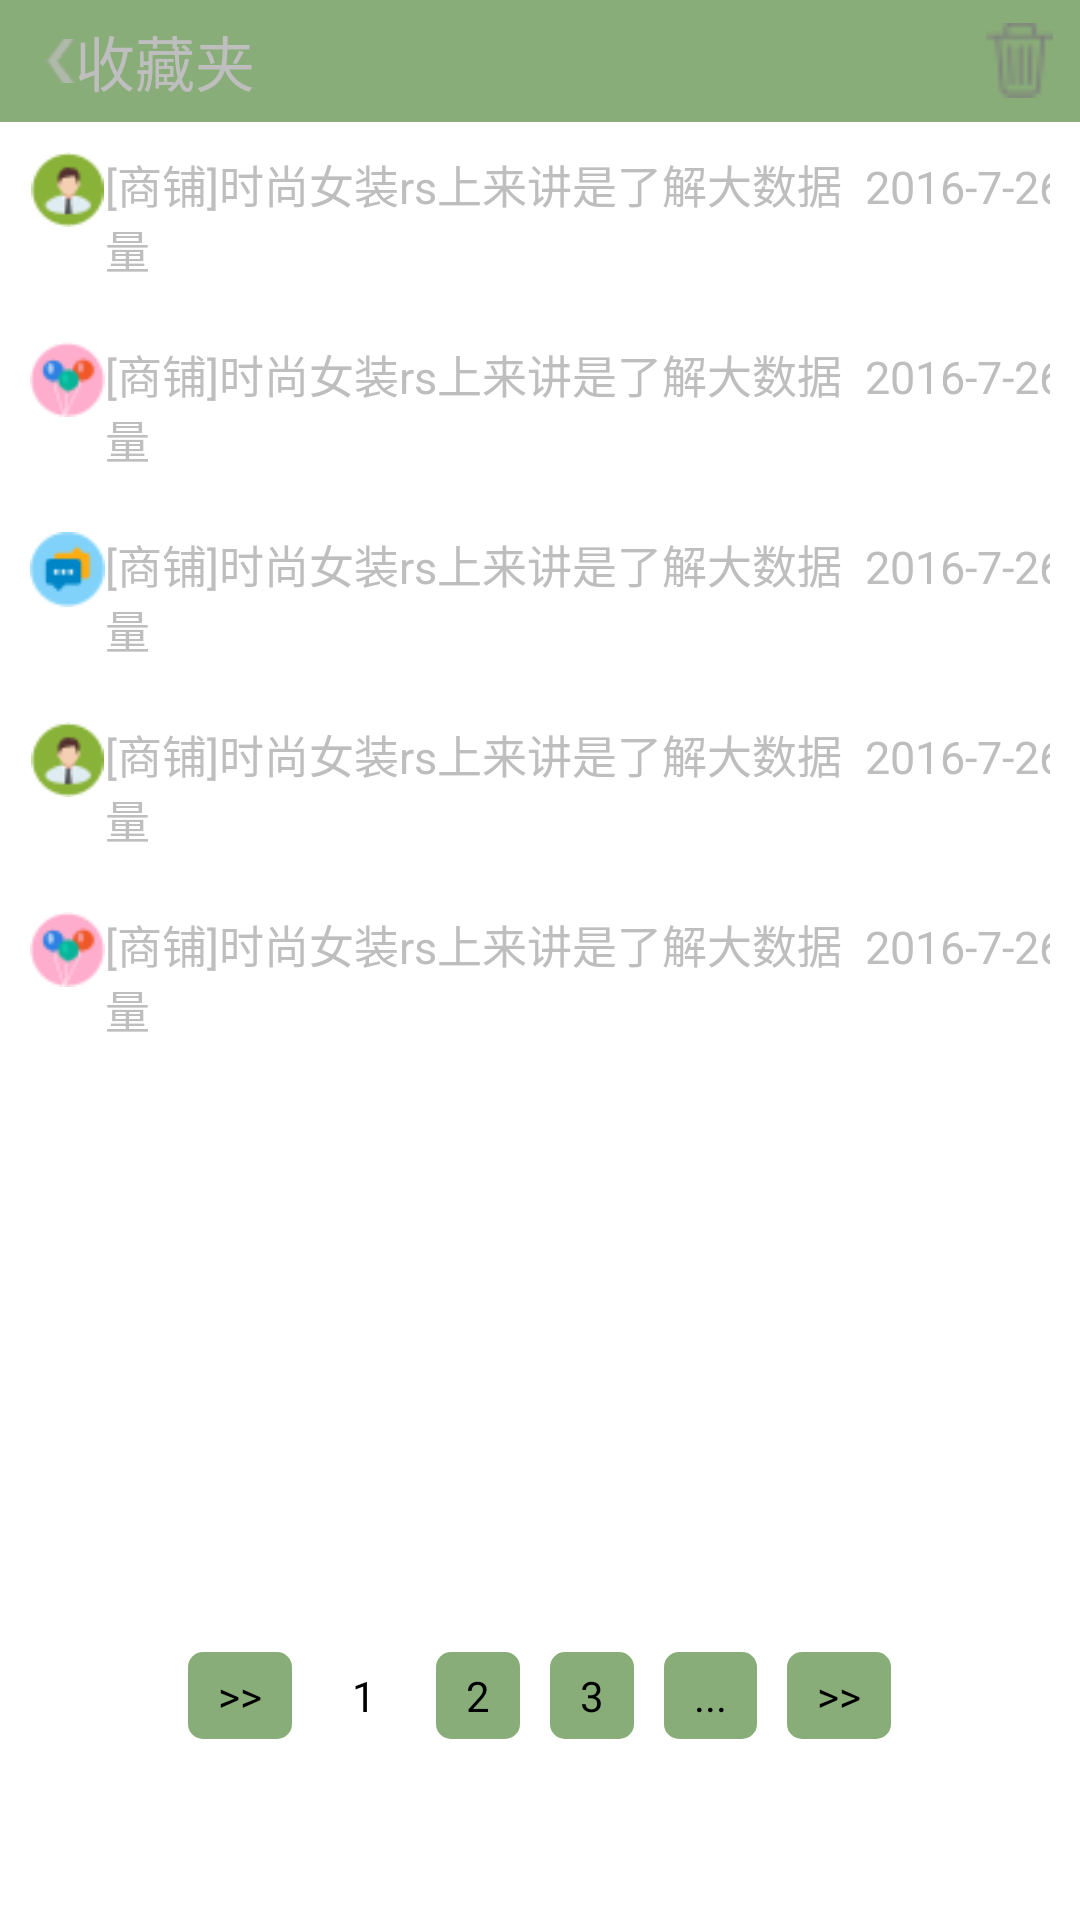

Where icons sit on this 1080w x 1920h app screen, as [x1,y1,x2,y2]:
arrow left: [47,39,74,83]
clear: [990,23,1053,98]
